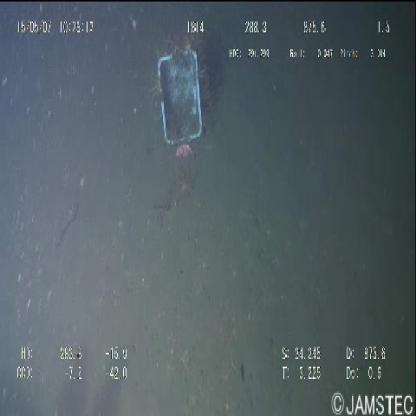Rác: (152, 43, 204, 162)
